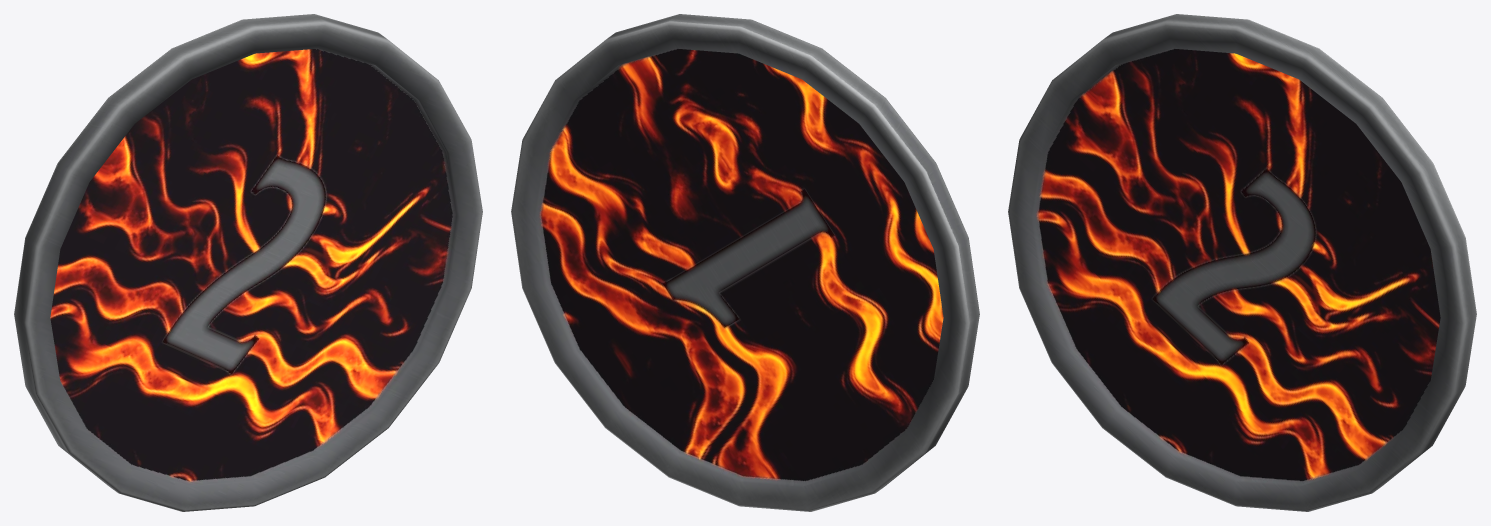
Rendered from dice_2.gltf.
3 renders of one model, left to right at view 1: azimuth 30°, elevation 25°; view 2: azimuth 150°, elevation 25°; view 3: azimuth 330°, elevation 25°, orthographic.
Parts seen in each view (by area): view 1: dice_2; view 2: dice_2; view 3: dice_2.
Part boxes in pixels (<box>): dice_2: <box>14,14,482,511</box>; dice_2: <box>511,14,979,511</box>; dice_2: <box>1008,14,1476,511</box>.
Bounding box in the file's own units: 180 × 180 × 9.04.
1 material, 1 textured.
